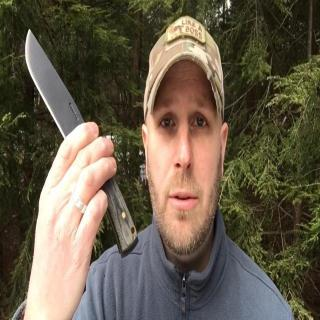knife: (21, 23, 117, 192)
